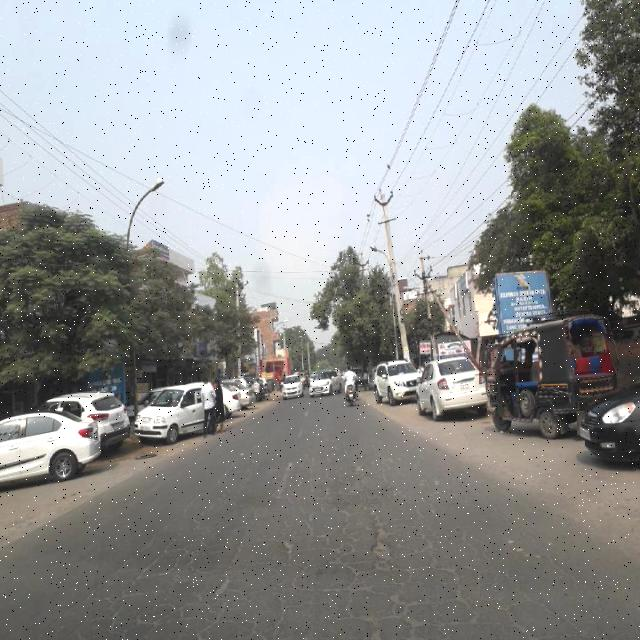D20: (82, 467, 591, 638)
D40: (369, 529, 400, 569), (206, 576, 231, 604)
D44: (272, 452, 307, 500)
